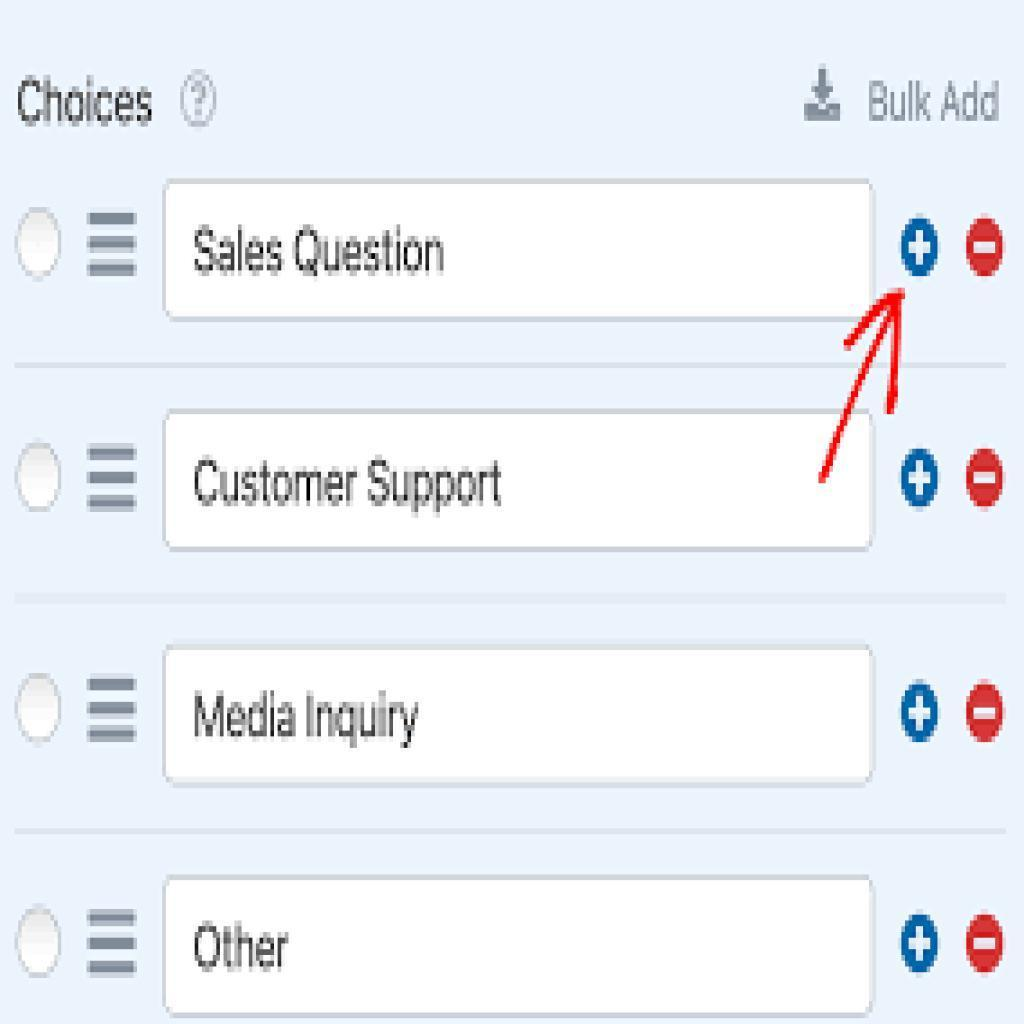icon: (82, 435, 146, 516), (87, 674, 145, 752), (88, 905, 144, 981), (88, 204, 141, 282), (898, 908, 947, 983), (962, 214, 1012, 283), (961, 910, 1011, 979), (900, 211, 947, 278), (962, 678, 1005, 745), (962, 450, 1007, 514), (898, 452, 942, 510), (900, 680, 938, 745)
input: (162, 874, 876, 1017), (165, 645, 875, 786), (167, 181, 875, 318), (164, 412, 874, 547)
label: (14, 74, 156, 131)
radio: (12, 204, 67, 287), (13, 435, 68, 516), (15, 672, 62, 750), (17, 903, 64, 980)
